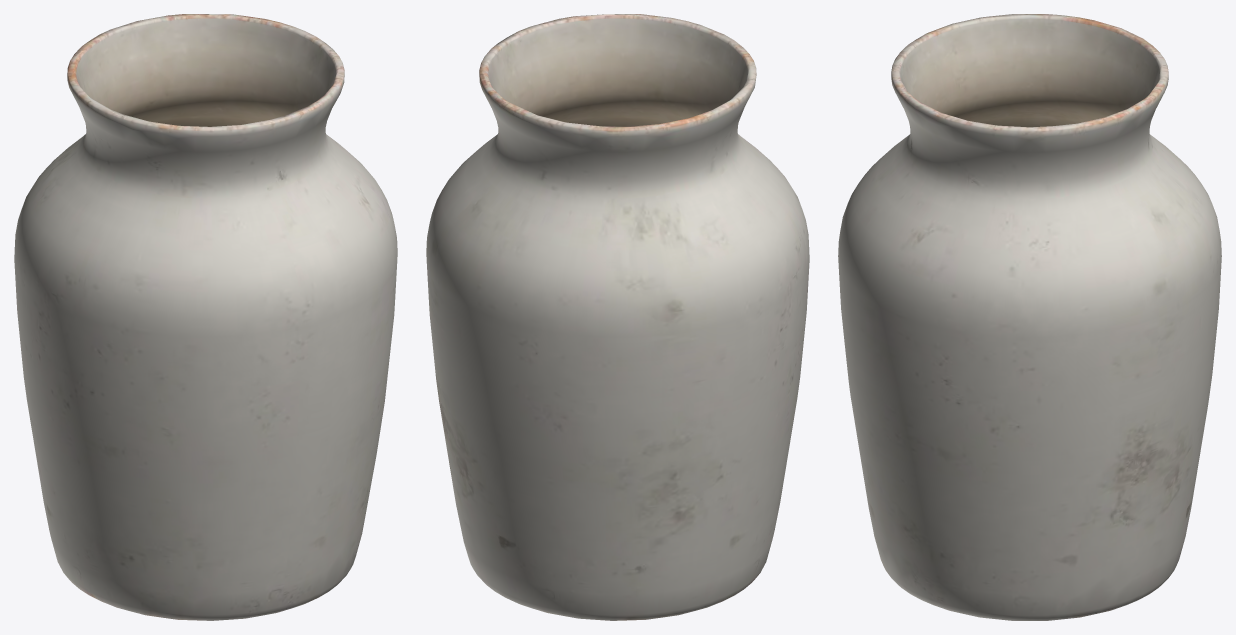
The model's file is ceramic_vase_02.glb.
The picture shows the model from 3 angles, left to right: view 1: azimuth 30°, elevation 25°; view 2: azimuth 150°, elevation 25°; view 3: azimuth 270°, elevation 25°; orthographic projection.
Parts seen in each view (by area): view 1: ceramic_vase_02; view 2: ceramic_vase_02; view 3: ceramic_vase_02.
Boxes of the visible parts, bbox=[...] form: ceramic_vase_02: bbox=[14, 14, 397, 620]; ceramic_vase_02: bbox=[426, 14, 809, 620]; ceramic_vase_02: bbox=[838, 14, 1221, 620].
Bounding box in the file's own units: 0.2184 × 0.3092 × 0.2184.
1 material, 1 textured.
